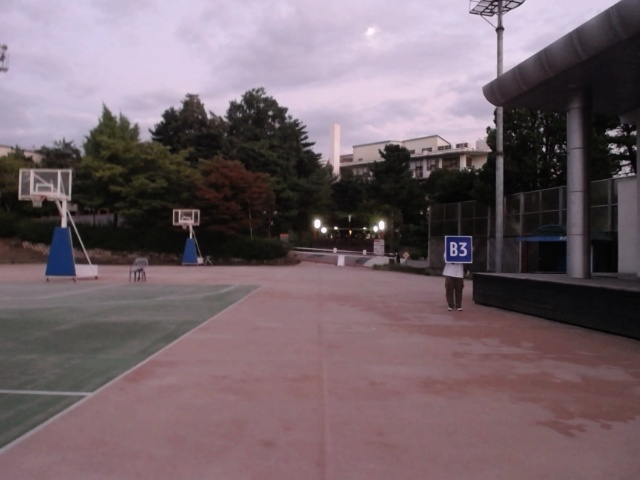delivery_b3: (446, 234, 473, 265)
